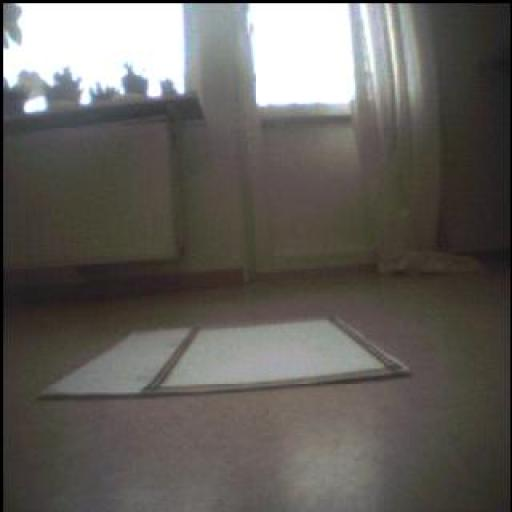Pad: (37, 315, 415, 393)
